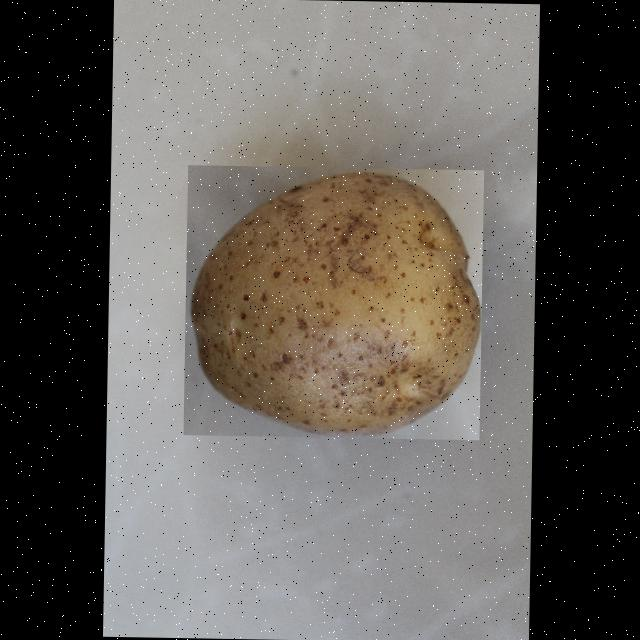Diseased-fungal potato: (182, 164, 483, 440)
